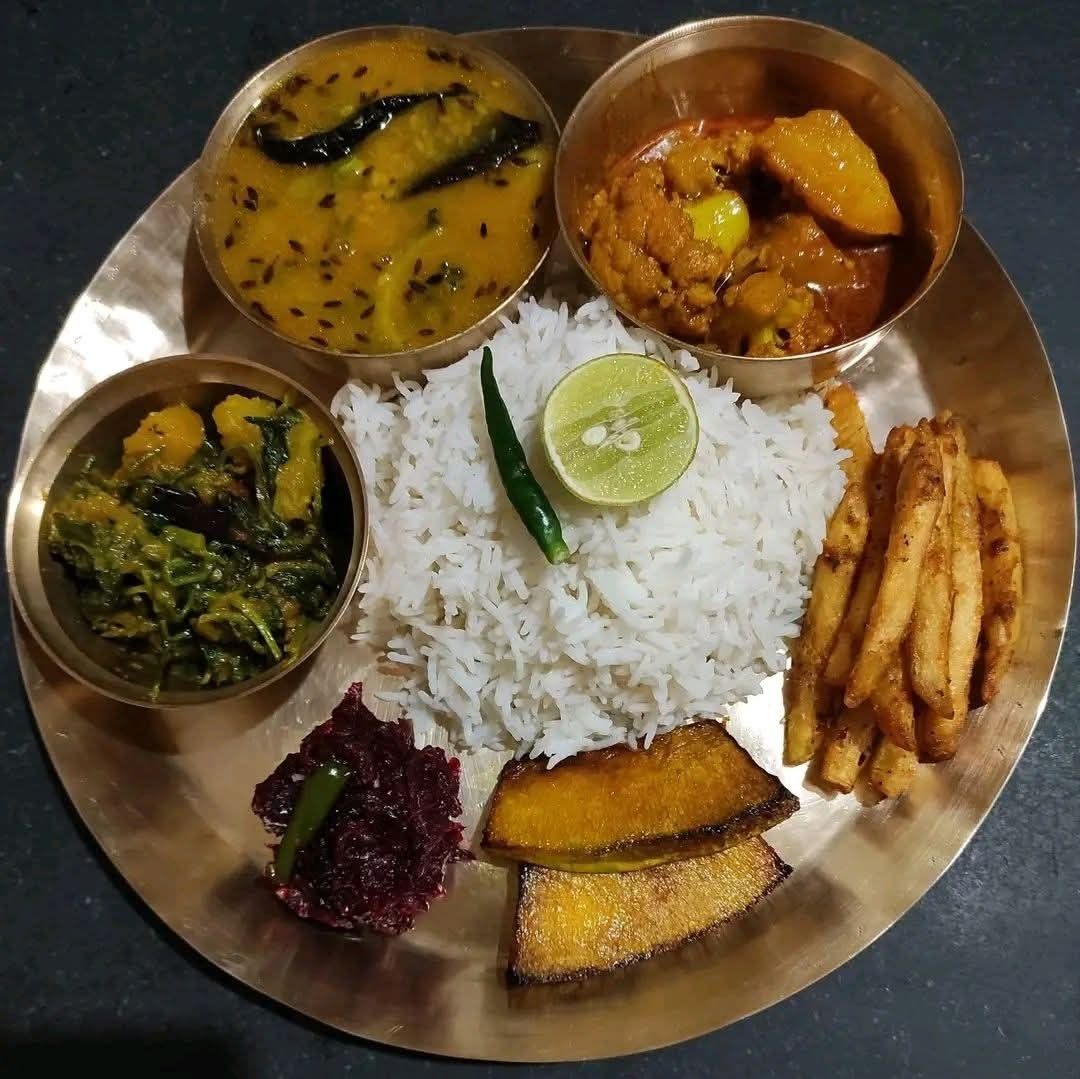bhat: (328, 306, 852, 759)
dal: (209, 66, 548, 348)
sabji: (54, 387, 356, 692), (588, 103, 916, 348)
